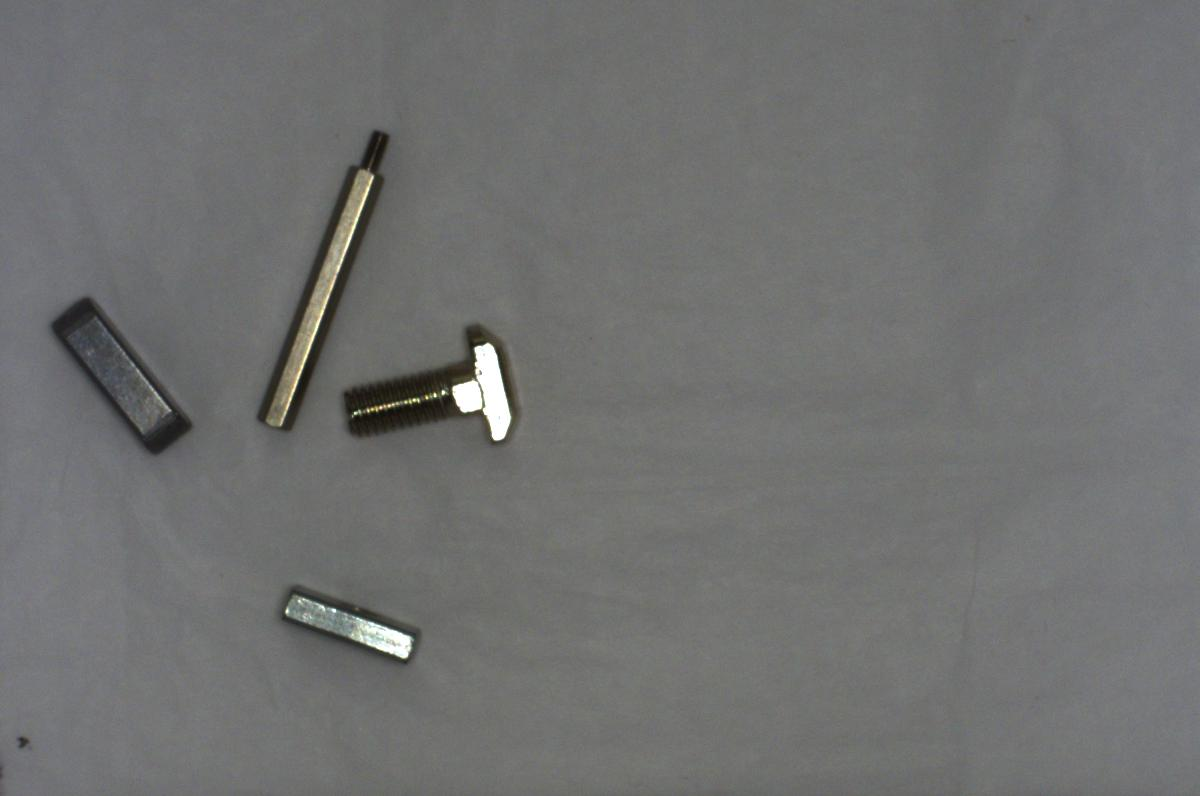Hexagonal steel column: (257, 121, 386, 432)
Keybar: (46, 285, 200, 463)
Rectangular nut: (279, 579, 420, 670)
T-shaped screw: (338, 325, 527, 449)
